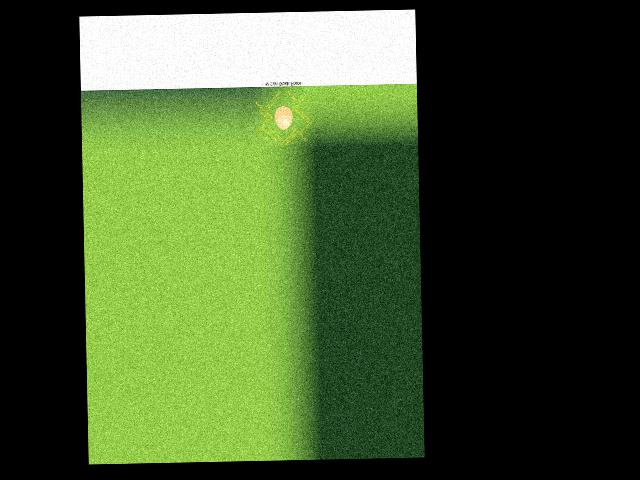egg: (274, 106, 293, 130)
